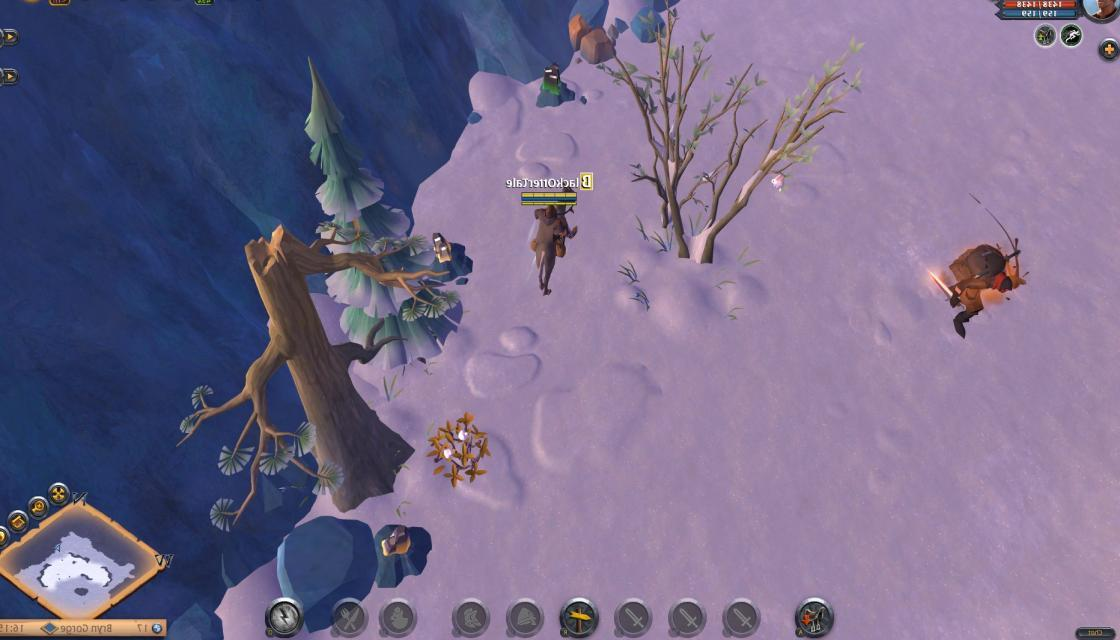copperore: (372, 506, 431, 588), (423, 228, 475, 282)
limestone: (565, 11, 619, 64)
tinore: (531, 60, 577, 116)
